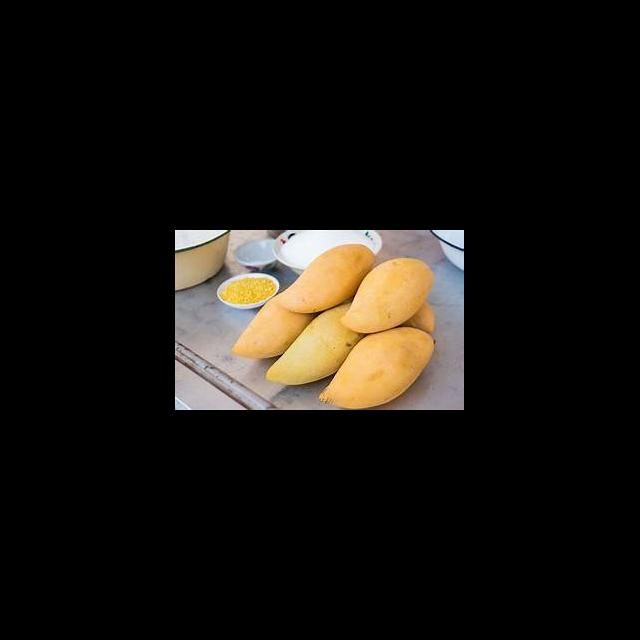mango: (319, 327, 434, 409), (266, 303, 364, 385), (342, 258, 434, 333), (277, 245, 375, 313), (232, 300, 316, 358)
